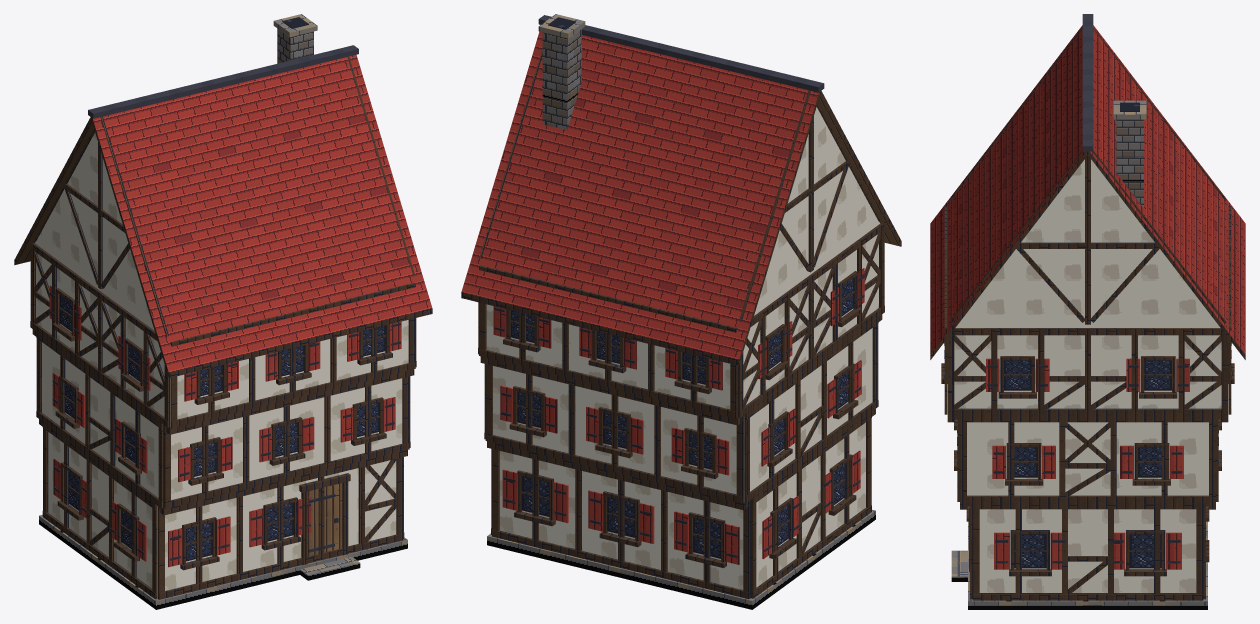
Rendered from medieval_house_1.glb.
3 views of the same model, side by side, from view 1: azimuth 30°, elevation 25°; view 2: azimuth 150°, elevation 25°; view 3: azimuth 270°, elevation 25° (orthographic). The views are drawn at different scales.
Parts seen in each view (by area): view 1: medieval_house_2; view 2: medieval_house_2; view 3: medieval_house_2.
Part boxes in pixels (x1,y1,x2,y2): medieval_house_2: [14, 14, 432, 609]; medieval_house_2: [461, 14, 901, 609]; medieval_house_2: [930, 14, 1245, 609].
Size of the model in its own units: 8.16 by 13.97 by 8.21.
Materials: 12 (12 with a texture image).
